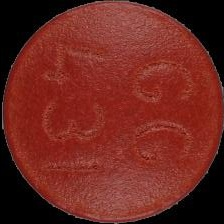52959-514: (0, 0, 224, 224)
